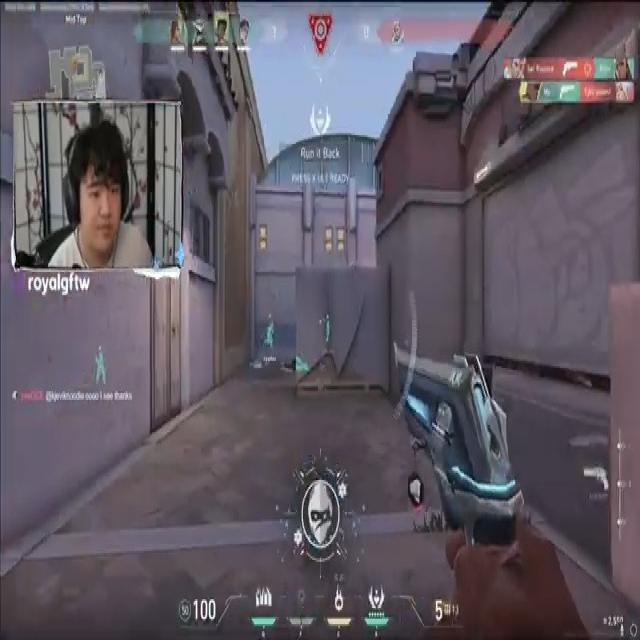ally behind wall: (262, 319, 278, 353), (95, 352, 107, 388)
